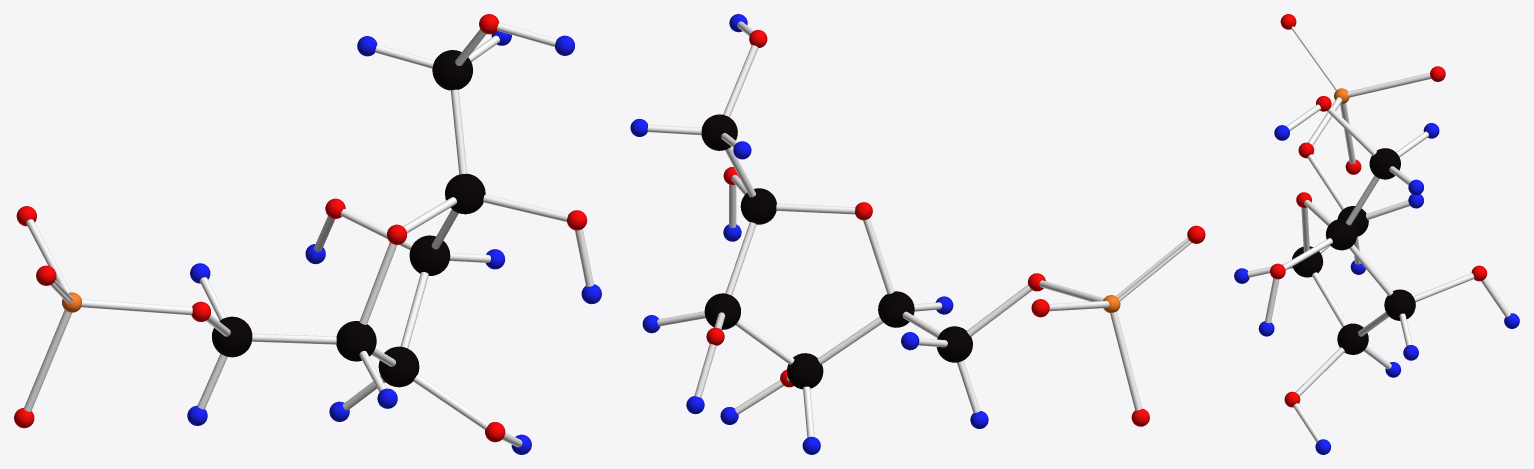
The model's file is fructose 6-phosphate_color.fbx.
The picture shows the model from 3 angles, left to right: view 1: azimuth 30°, elevation 25°; view 2: azimuth 150°, elevation 25°; view 3: azimuth 270°, elevation 25°; orthographic projection. The views are drawn at different scales.
Parts seen in each view (by area): view 1: Atom6_Clone___3_, Atom6_Clone___2_, Atom6_Clone___5_, Atom6_Clone_, Atom6_Clone___1_, Atom6_Clone___4_, Bond1_Clone_, Bond1_Clone___2_, Bond1_Clone___7_, Bond1_Clone___9_, Bond1_Clone___4_, Bond1_Clone___22_ (+3 smaller); view 2: Atom6_Clone___1_, Atom6_Clone___2_, Atom6_Clone___3_, Atom6_Clone___4_, Atom6_Clone___5_, Atom6_Clone_, Bond1_Clone___2_, Bond1_Clone___3_, Bond1_Clone___4_, Bond1_Clone___11_, Bond1_Clone___12_, Bond1_Clone___17_ (+1 smaller); view 3: Atom6_Clone___2_, Atom6_Clone_, Atom6_Clone___1_, Atom6_Clone___5_, Bond1_Clone___1_, Atom6_Clone___3_, Bond1_Clone___5_, Bond1_Clone___11_, Bond1_Clone___12_, Atom6_Clone___4_, Bond1_Clone___7_, Bond1_Clone___17_ (+10 smaller).
Part boxes in pixels (x1,y1,x2,y2): Atom6_Clone___3_: (336, 321, 376, 361); Atom6_Clone___2_: (445, 173, 485, 214); Atom6_Clone___5_: (432, 50, 472, 90); Atom6_Clone_: (409, 235, 450, 275); Atom6_Clone___1_: (378, 346, 419, 387); Atom6_Clone___4_: (212, 316, 252, 357); Bond1_Clone_: (81, 299, 192, 315); Bond1_Clone___2_: (24, 310, 71, 411); Bond1_Clone___7_: (413, 374, 489, 429); Bond1_Clone___9_: (483, 194, 568, 221); Bond1_Clone___4_: (359, 242, 397, 324); Bond1_Clone___22_: (252, 333, 336, 344); Atom6_Clone___1_: (787, 353, 823, 389); Atom6_Clone___2_: (740, 188, 776, 224); Atom6_Clone___3_: (878, 291, 914, 327); Atom6_Clone___4_: (936, 326, 972, 362); Atom6_Clone___5_: (701, 114, 737, 150); Atom6_Clone_: (704, 293, 740, 329); Bond1_Clone___2_: (1110, 311, 1142, 410); Bond1_Clone___3_: (776, 203, 855, 214); Bond1_Clone___4_: (863, 218, 894, 294); Bond1_Clone___11_: (966, 285, 1032, 336); Bond1_Clone___12_: (723, 45, 758, 117); Bond1_Clone___17_: (725, 222, 756, 295); Atom6_Clone___2_: (1325, 219, 1357, 250); Atom6_Clone_: (1384, 289, 1415, 320); Atom6_Clone___1_: (1337, 323, 1368, 354); Atom6_Clone___5_: (1369, 148, 1400, 179); Bond1_Clone___1_: (1347, 73, 1431, 97); Atom6_Clone___3_: (1292, 246, 1323, 277); Bond1_Clone___5_: (1413, 273, 1474, 301); Bond1_Clone___11_: (1307, 154, 1346, 209); Bond1_Clone___12_: (1327, 107, 1376, 155); Atom6_Clone___4_: (1337, 206, 1368, 236); Bond1_Clone___7_: (1295, 347, 1344, 396); Bond1_Clone___17_: (1349, 244, 1393, 295).
Size of the model in its own units: 786 by 604 by 453.
